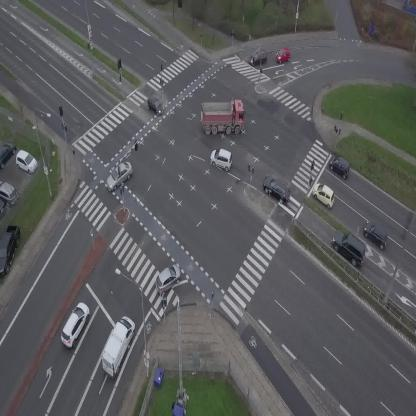car: (326, 226, 373, 270), (57, 300, 94, 350), (149, 260, 186, 297), (101, 158, 137, 193), (258, 173, 296, 206), (359, 218, 394, 251), (307, 180, 339, 209), (207, 145, 236, 172), (326, 153, 354, 179), (143, 95, 167, 118), (247, 50, 269, 67), (273, 47, 292, 64)
lorry: (95, 313, 139, 380), (202, 99, 244, 135)
